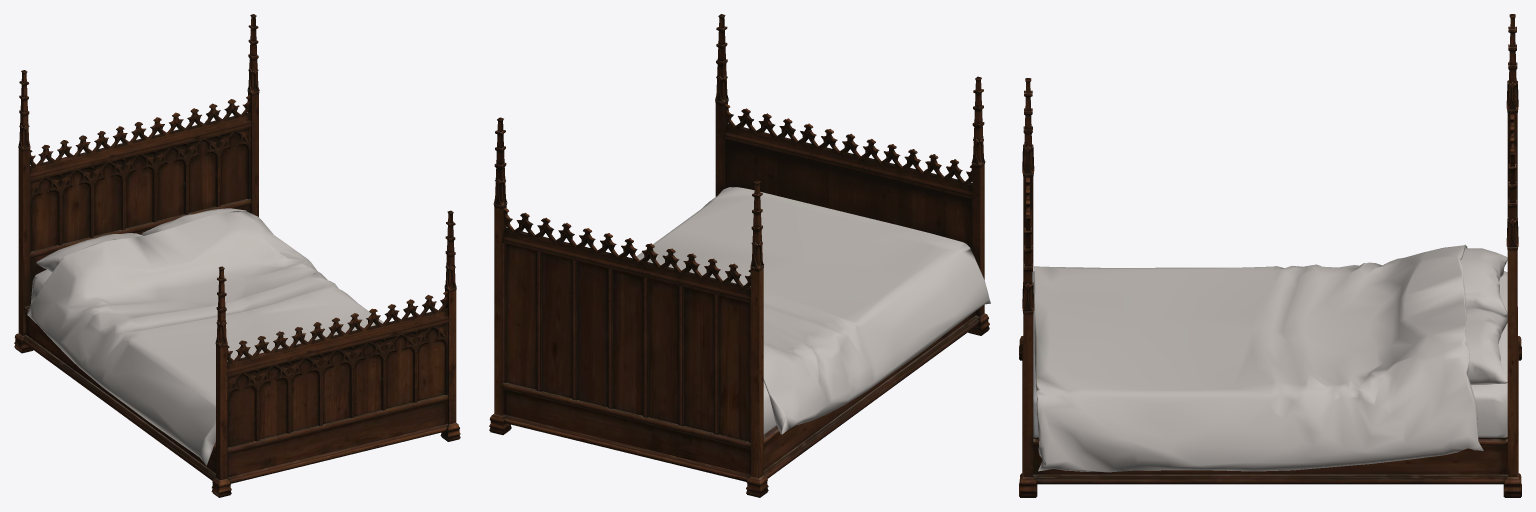
The model's file is GothicBed_01.glb.
3 renders of one model, left to right at view 1: azimuth 30°, elevation 25°; view 2: azimuth 150°, elevation 25°; view 3: azimuth 270°, elevation 25°, orthographic. The views are drawn at different scales.
Parts seen in each view (by area): view 1: GothicBed_01; view 2: GothicBed_01; view 3: GothicBed_01.
Part boxes in pixels (x1,y1,x2,y2): GothicBed_01: (14, 14, 460, 497); GothicBed_01: (489, 14, 990, 497); GothicBed_01: (1019, 14, 1521, 497).
Size of the model in its own units: 1.49 by 1.53 by 2.04.
Materials: 1 (1 with a texture image).
